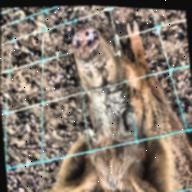boar: (29, 9, 192, 192)
